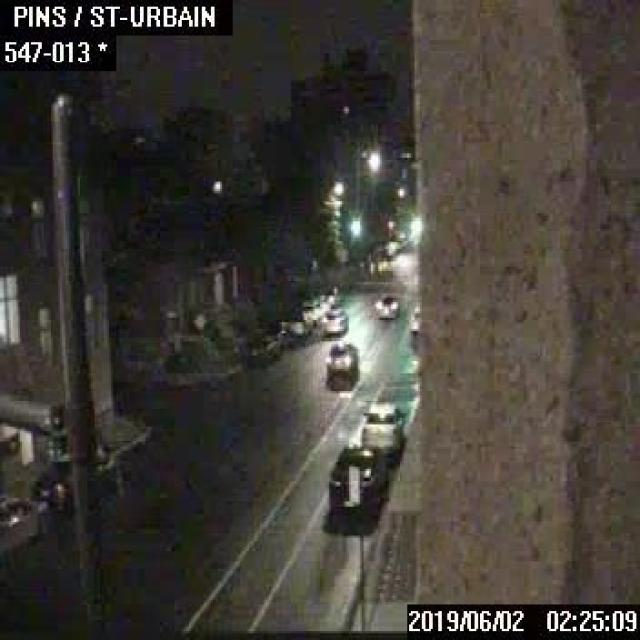vehicle: (30, 456, 133, 513), (328, 445, 388, 510), (0, 493, 49, 560), (360, 400, 404, 455), (245, 332, 283, 363), (325, 340, 356, 373), (278, 309, 312, 338), (320, 308, 348, 334), (299, 300, 321, 326), (376, 293, 396, 318), (320, 288, 339, 304)
